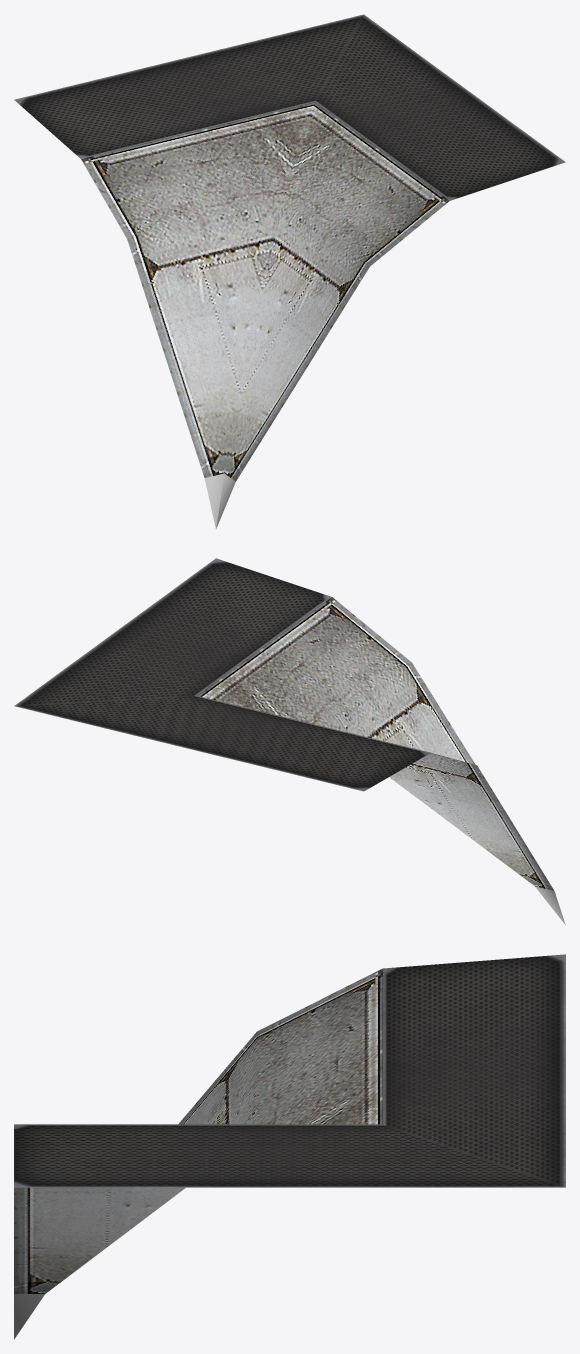
Rendered from Roof_B_Short2mts_14.fbx.
The picture shows the model from 3 angles, top to bottom: view 1: azimuth 30°, elevation 25°; view 2: azimuth 150°, elevation 25°; view 3: azimuth 270°, elevation 25°; orthographic projection. The views are drawn at different scales.
Parts seen in each view (by area): view 1: Roof_B_Short2mts_14; view 2: Roof_B_Short2mts_14; view 3: Roof_B_Short2mts_14.
Part boxes in pixels (box(x1,y1,x2,y2)): Roof_B_Short2mts_14: box(14, 14, 565, 529); Roof_B_Short2mts_14: box(14, 558, 565, 925); Roof_B_Short2mts_14: box(14, 954, 565, 1339).
Bounding box in the file's own units: 200 × 154 × 200.
